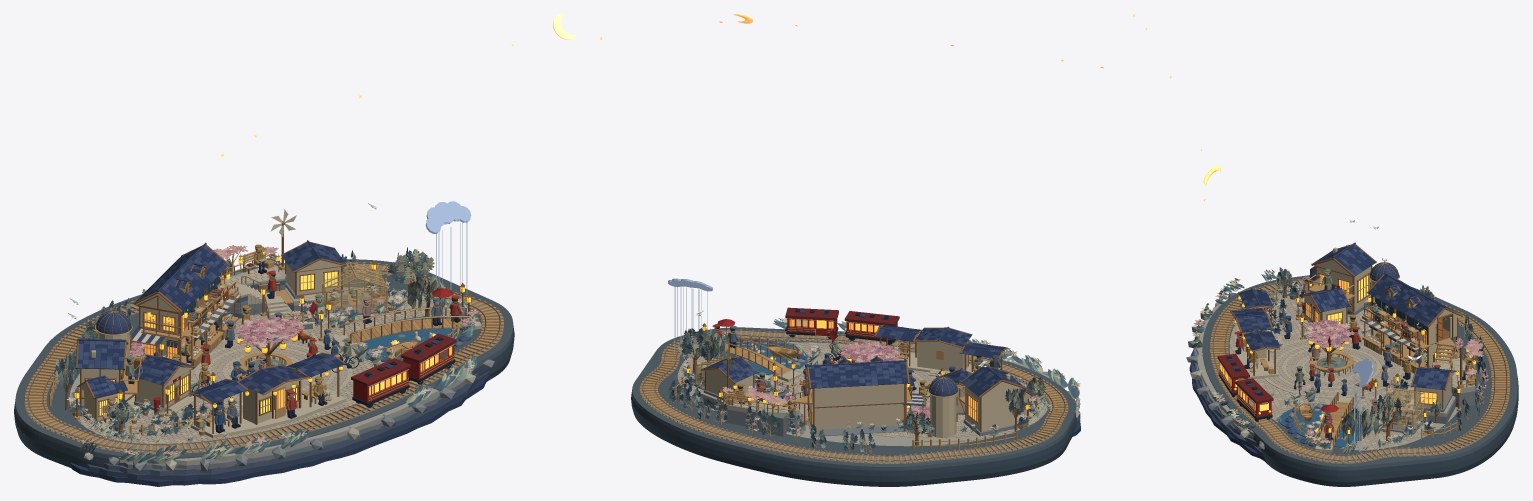
Rendered from town.glb.
The picture shows the model from 3 angles, left to right: view 1: azimuth 30°, elevation 25°; view 2: azimuth 150°, elevation 25°; view 3: azimuth 270°, elevation 25°; orthographic projection. The views are drawn at different scales.
Visible parts, largest first — view 1: district/04_Station_Tram, district/00_Terrain, district/Scene Collection, district/01_Plaza, district/03_Post_Residential, district/02_Teahouse_Market, district/05_Water_Garden, district/06_Hillside, district/07_Paper_Foliage, entity/tram.tram_car_rear/body, entity/tram.tram_car_front/body, part/tree.lantern_tree/foliage.001 (+5 smaller); view 2: district/Scene Collection, district/04_Station_Tram, district/02_Teahouse_Market, district/03_Post_Residential, district/06_Hillside, district/07_Paper_Foliage, district/01_Plaza, district/05_Water_Garden, district/00_Terrain, entity/tram.tram_car_front/body, entity/tram.tram_car_rear/body, part/tree.lantern_tree/foliage.001 (+3 smaller); view 3: district/Scene Collection, district/04_Station_Tram, district/01_Plaza, district/02_Teahouse_Market, district/03_Post_Residential, district/06_Hillside, district/05_Water_Garden, district/00_Terrain, district/07_Paper_Foliage, entity/tram.tram_car_front/body, part/tree.lantern_tree/foliage.001, entity/tram.tram_car_rear/body (+2 smaller).
Boxes of the visible parts, x1,y1,x2,y2 form: district/04_Station_Tram: (24,261,503,454); district/00_Terrain: (69,287,494,486); district/Scene Collection: (14,259,514,467); district/01_Plaza: (78,292,451,443); district/03_Post_Residential: (49,267,458,437); district/02_Teahouse_Market: (131,242,241,369); district/05_Water_Garden: (283,261,481,362); district/06_Hillside: (210,240,347,319); district/07_Paper_Foliage: (82,250,478,443); entity/tram.tram_car_rear/body: (351,358,410,405); entity/tram.tram_car_front/body: (401,333,456,382); part/tree.lantern_tree/foliage.001: (236,316,304,347); district/Scene Collection: (631,327,1076,486); district/04_Station_Tram: (640,324,1068,463); district/02_Teahouse_Market: (802,355,925,436); district/03_Post_Residential: (674,335,1037,449); district/06_Hillside: (700,356,812,436); district/07_Paper_Foliage: (668,338,1051,453); district/01_Plaza: (678,342,1047,438); district/05_Water_Garden: (694,333,807,396); district/00_Terrain: (677,329,1080,446); entity/tram.tram_car_front/body: (785,307,838,336); entity/tram.tram_car_rear/body: (844,311,899,342); part/tree.lantern_tree/foliage.001: (840,340,903,362); district/Scene Collection: (1202,275,1518,486); district/04_Station_Tram: (1210,277,1509,461); district/01_Plaza: (1229,291,1432,450); district/02_Teahouse_Market: (1360,272,1462,373); district/03_Post_Residential: (1265,242,1457,438); district/06_Hillside: (1407,338,1475,423); district/05_Water_Garden: (1278,376,1424,452); district/00_Terrain: (1186,288,1460,462); district/07_Paper_Foliage: (1233,284,1488,450); entity/tram.tram_car_front/body: (1235,378,1273,420); part/tree.lantern_tree/foliage.001: (1305,319,1354,348); entity/tram.tram_car_rear/body: (1217,353,1249,395).
Size of the model in its own units: 28.34 by 20.57 by 23.05.
